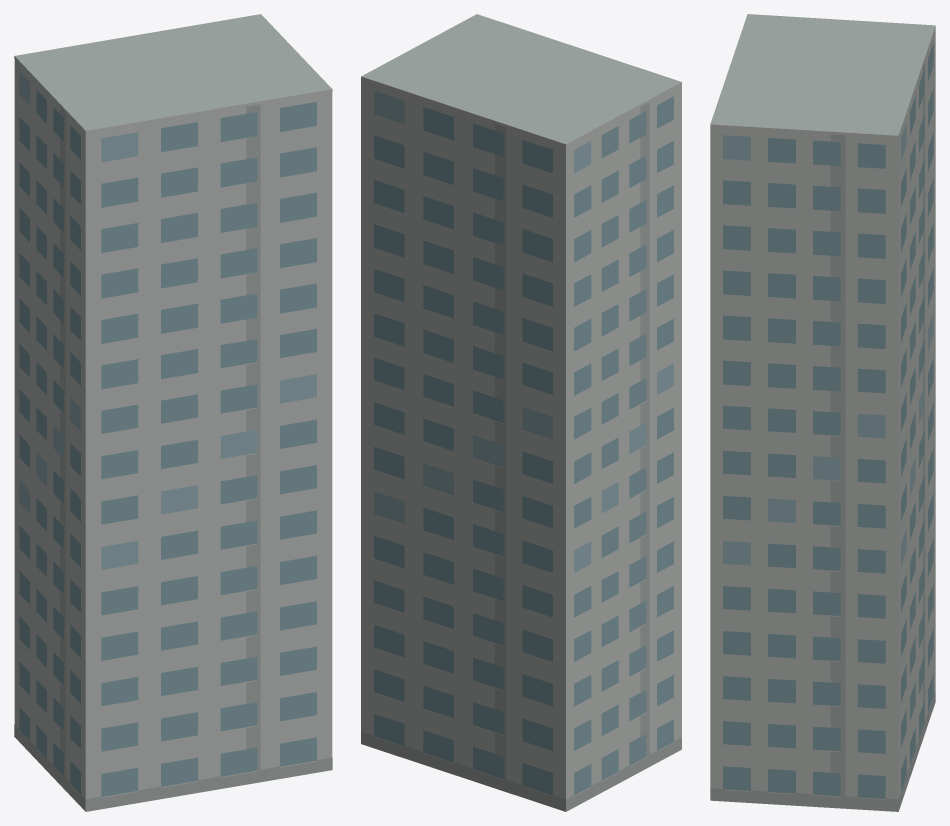
Rendered from residential-7386e403-df46-4921-90f6-a5d3aa5493f8.glb.
3 renders of one model, left to right at view 1: azimuth 30°, elevation 25°; view 2: azimuth 150°, elevation 25°; view 3: azimuth 270°, elevation 25°, orthographic. The views are drawn at different scales.
Parts seen in each view (by area): view 1: residential-7386e403-df46-4921-90f6-a5d3aa5493f8.tmp; view 2: residential-7386e403-df46-4921-90f6-a5d3aa5493f8.tmp; view 3: residential-7386e403-df46-4921-90f6-a5d3aa5493f8.tmp.
Part boxes in pixels (x1,y1,x2,y2): residential-7386e403-df46-4921-90f6-a5d3aa5493f8.tmp: (14, 14, 332, 811); residential-7386e403-df46-4921-90f6-a5d3aa5493f8.tmp: (361, 14, 681, 811); residential-7386e403-df46-4921-90f6-a5d3aa5493f8.tmp: (710, 14, 935, 811).
Bounding box in the file's own units: 22.79 × 59 × 17.85.
